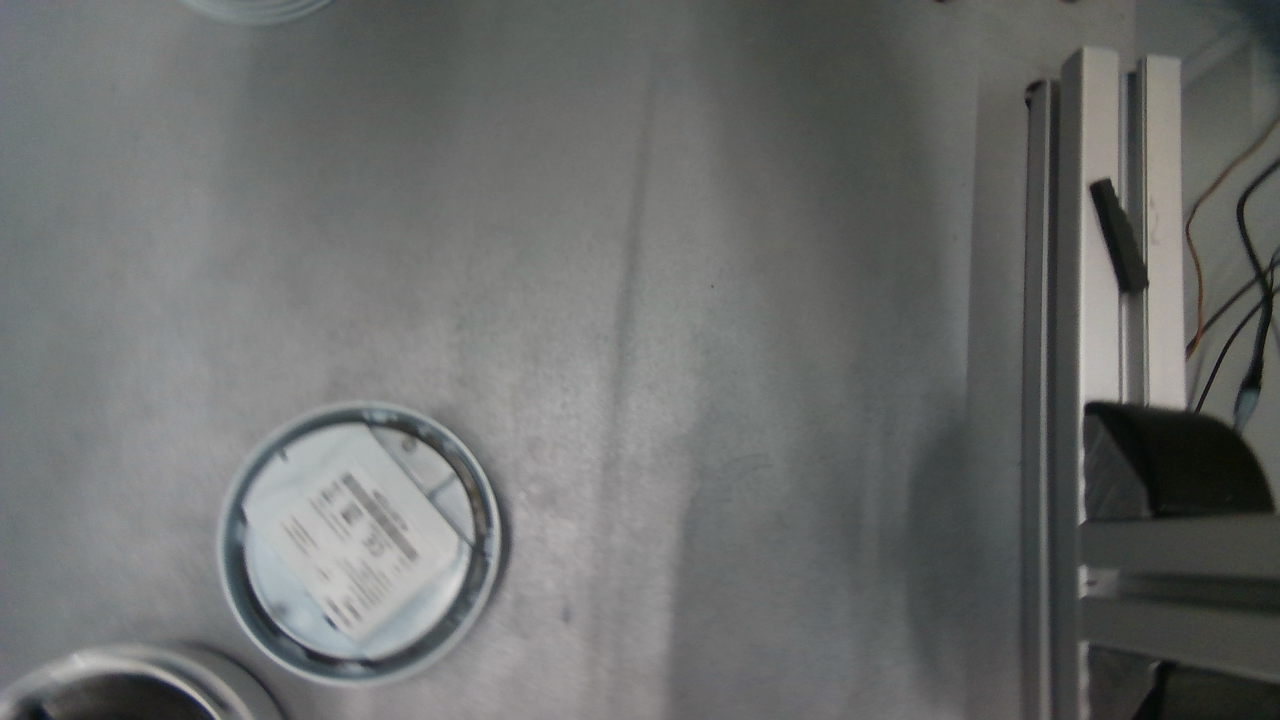HexScrew: (268, 601, 294, 622), (399, 438, 416, 453)
